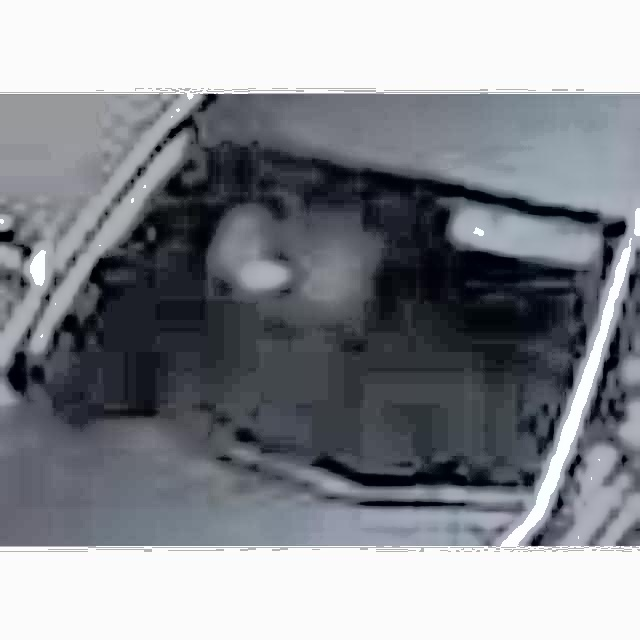pakai: (194, 191, 362, 327)
